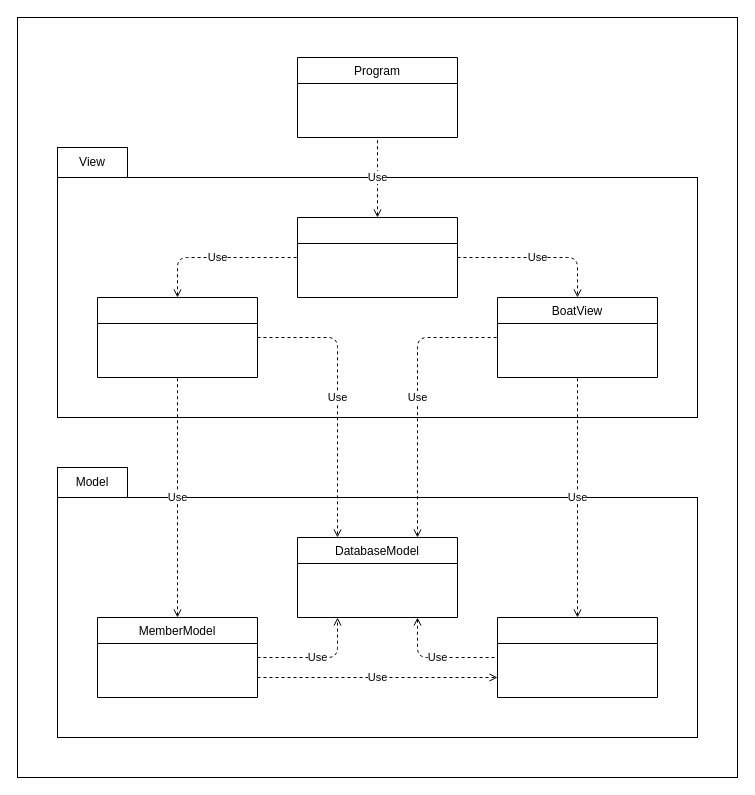
This 755x795 diagram has some shape labels left out. The box of each missing label's shape, as (x1, y1, x2, y2) in pixels:
BoatModel: (496, 616, 658, 698)
MainMenuView: (296, 216, 458, 298)
MemberView: (96, 296, 258, 378)
